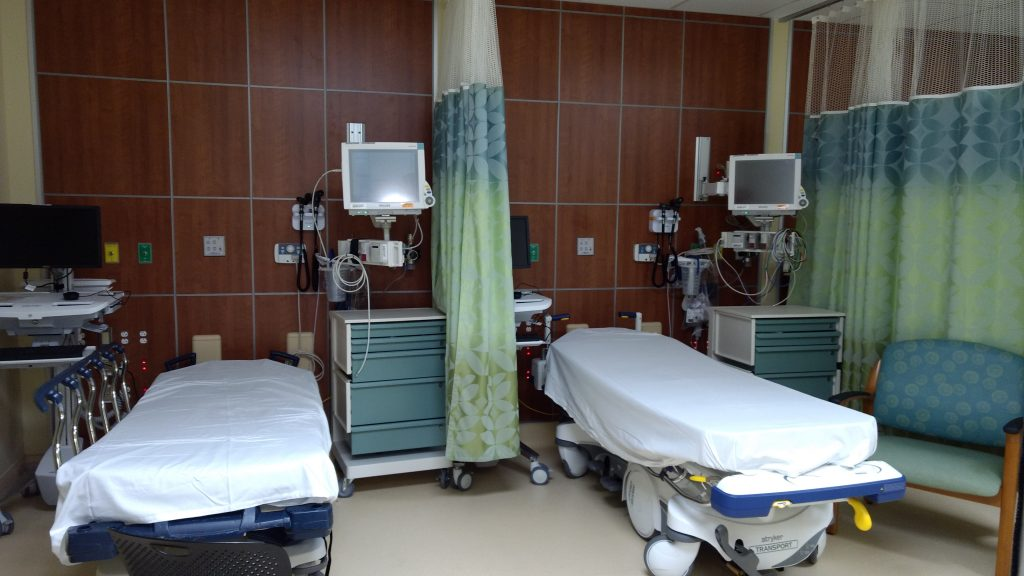bedrail: (32, 340, 132, 470)
bedside_monitor: (338, 141, 436, 221), (729, 154, 809, 217)
bedside_table: (328, 309, 455, 499), (706, 303, 845, 406)
computer: (1, 203, 104, 269), (507, 217, 533, 268)
curtain: (797, 112, 1024, 394), (431, 1, 517, 466)
hospital_bed: (523, 304, 900, 566), (53, 345, 339, 576)
mouse: (58, 290, 91, 301)
sofa: (829, 320, 1024, 576)
table: (1, 291, 126, 505)
